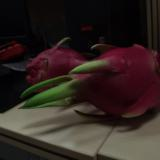pitaya: (29, 44, 160, 119), (27, 37, 93, 86)
